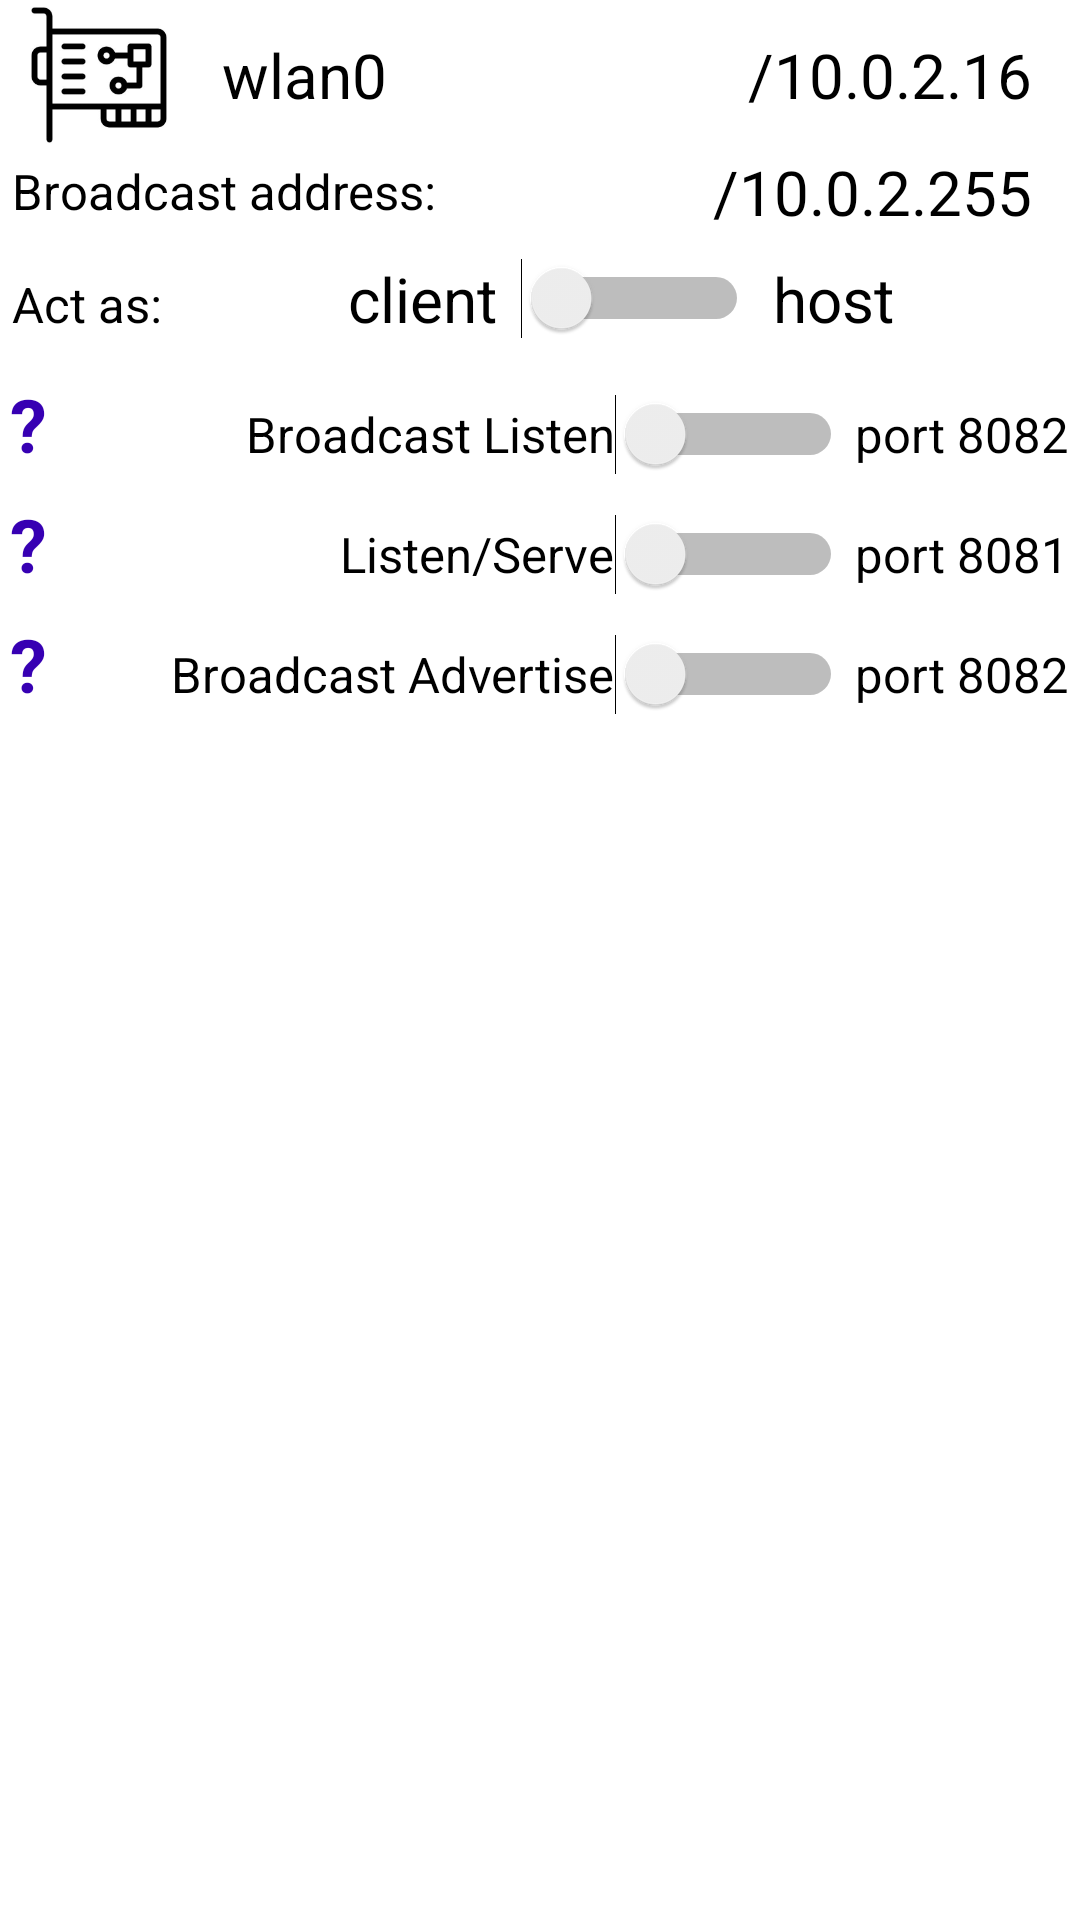

Named icons in this screenshot (1080w x 1920h) and their bounding boxes, [left=x1, top=y1, right=x2, bottom=y2]:
network card: [left=31, top=7, right=167, bottom=143]
